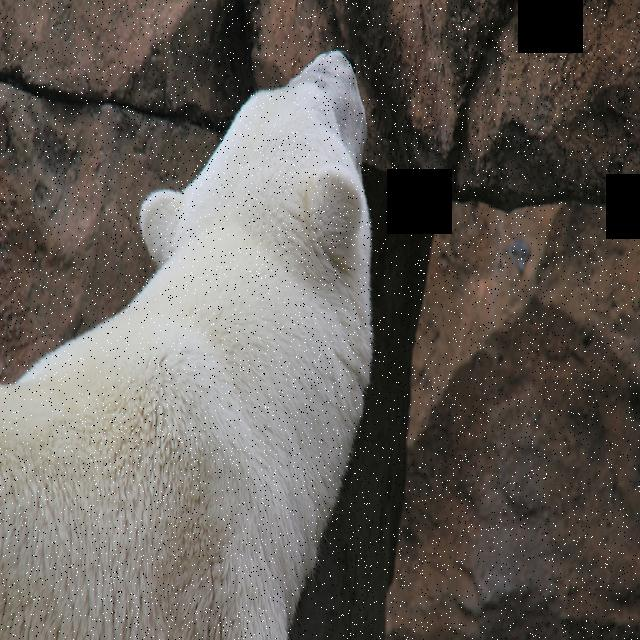Bear: (0, 46, 378, 640)
